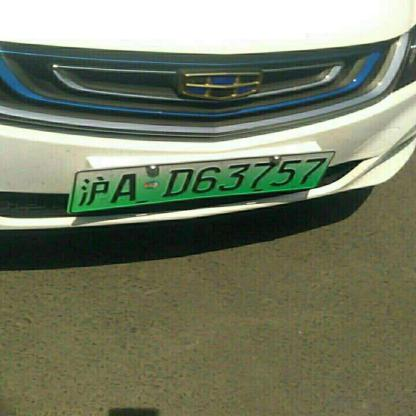lp: (66, 150, 335, 212)
